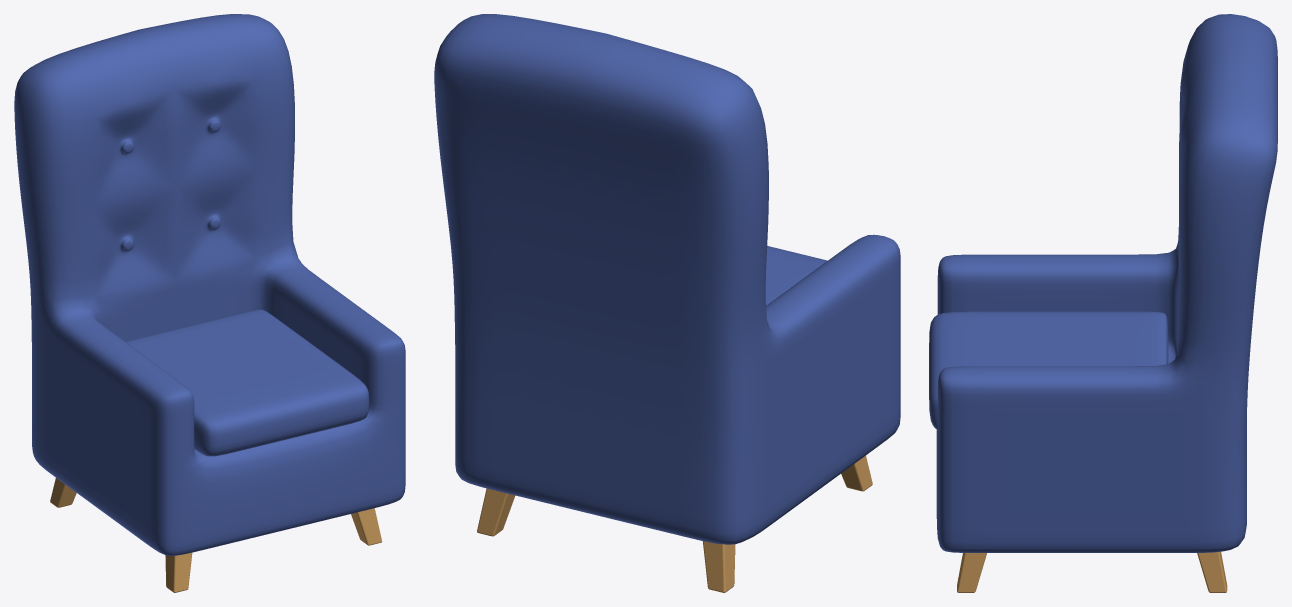
Rendered from CHAIR.fbx.
3 views of the same model, side by side, from view 1: azimuth 30°, elevation 25°; view 2: azimuth 150°, elevation 25°; view 3: azimuth 270°, elevation 25° (orthographic). The views are drawn at different scales.
Parts seen in each view (by area): view 1: Plane.001; view 2: Plane.001; view 3: Plane.001.
Boxes of the visible parts, box(x1,y1,x2,y2) form: Plane.001: box(14, 14, 405, 592); Plane.001: box(434, 14, 900, 592); Plane.001: box(929, 14, 1277, 592).
Size of the model in its own units: 212 by 341 by 224.
